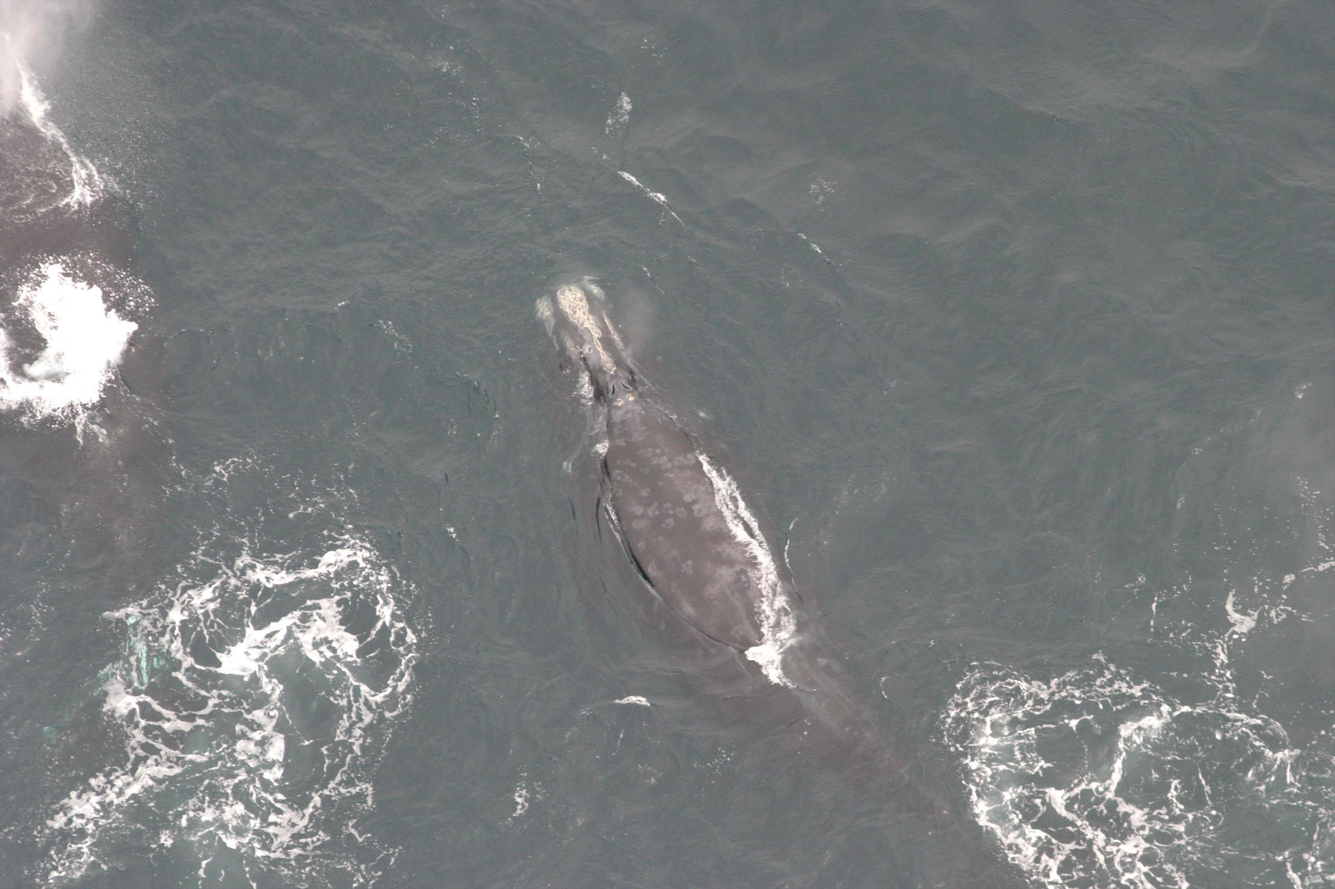whale: (521, 263, 1027, 889)
